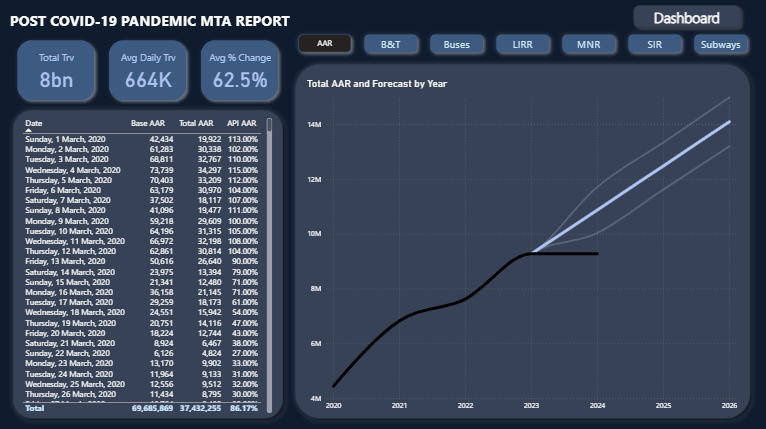

The page's visual inventory and layout, read from the dashboard file:
{"tool":"powerbi","page":{"name":"AAR","canvas":[1280,720],"ordinal":0},"visuals":[{"type":"shape","box":[879.6,100.1,389.7,305.7],"z":0},{"type":"shape","box":[956.4,405.8,312.8,303.9],"z":1000},{"type":"shape","box":[489.8,100.1,389.7,305.7],"z":2000},{"type":"shape","box":[489.8,405.8,461.2,303.9],"z":3000},{"type":"shape","box":[12.5,175.2,470.2,534.5],"z":4000},{"type":"areaChart","title":"AAR MOM Change","fields":{"Category":["Date Table.Year","Date Table.Month"],"Y":["Measure Table.MOM AAR"]},"box":[507.7,121.6,359.3,269.9],"z":5000},{"type":"lineChart","fields":{"Y":["Measure Table.Total AAR","Measure Table.Base AAR"],"Category":["Date Table.Year","Date Table.Month"]},"box":[509.5,423.7,427.3,269.9],"z":6000},{"type":"tableEx","fields":{"Values":["Date Table.Date","Measure Table.Base AAR","Measure Table.Total AAR","Measure Table.API AAR"]},"box":[34,193.1,427.3,502.3],"z":7000},{"type":"areaChart","fields":{"Category":["Date Table.Year","Date Table.Quarter"],"Y":["Measure Table.QOQ AAR"]},"box":[895.6,121.6,361.1,269.9],"z":8000},{"type":"clusteredColumnChart","fields":{"Category":["Date Table.Day"],"Y":["Measure Table.Total AAR"]},"box":[970.7,423.7,291.4,269.9],"z":9000},{"type":"shape","box":[1047.6,1.8,196.6,55.4],"z":10000},{"type":"textbox","box":[12.5,12.5,495.2,55.4],"z":11000},{"type":"cardVisual","fields":{"Data":["Measure Table.Total Travel","Measure Table.Average Daily Travel","Measure Table.Average % Change"]},"box":[12.5,51.8,470.2,134.1],"z":12000},{"type":"pageNavigator","box":[489.8,50.1,772.3,48.3],"z":13000}]}

Visuals, with their boxes in screenshot pixels (x1, y1, x2, y2), scaled from the page's 1280x720 canvas onto the 766x429 screenshot:
shape: (526, 60, 760, 242)
shape: (572, 242, 760, 423)
shape: (293, 60, 526, 242)
shape: (293, 242, 569, 423)
shape: (7, 104, 289, 423)
"AAR MOM Change" areaChart: (304, 72, 519, 233)
lineChart - Measure Table.Total AAR x Measure Table.Base AAR: (305, 252, 561, 413)
tableEx - Date Table.Date x Measure Table.Base AAR: (20, 115, 276, 414)
areaChart - Date Table.Year x Date Table.Quarter: (536, 72, 752, 233)
clusteredColumnChart - Date Table.Day x Measure Table.Total AAR: (581, 252, 755, 413)
shape: (627, 1, 745, 34)
textbox: (7, 7, 304, 40)
cardVisual - Measure Table.Total Travel x Measure Table.Average Daily Travel: (7, 31, 289, 111)
pageNavigator: (293, 30, 755, 59)
